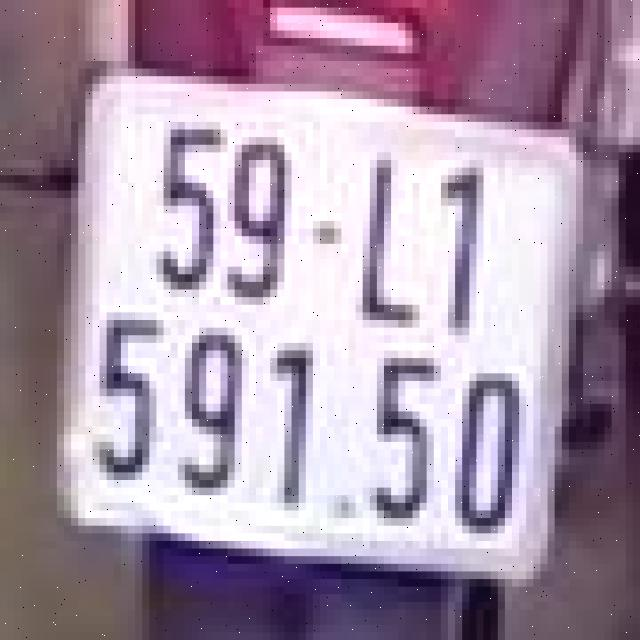0: (448, 362, 533, 552)
1: (430, 148, 494, 346), (266, 328, 324, 526)
5: (153, 106, 224, 290), (359, 343, 430, 526), (92, 308, 164, 484)
9: (160, 328, 245, 510), (228, 118, 306, 309)
L: (352, 145, 423, 335)
